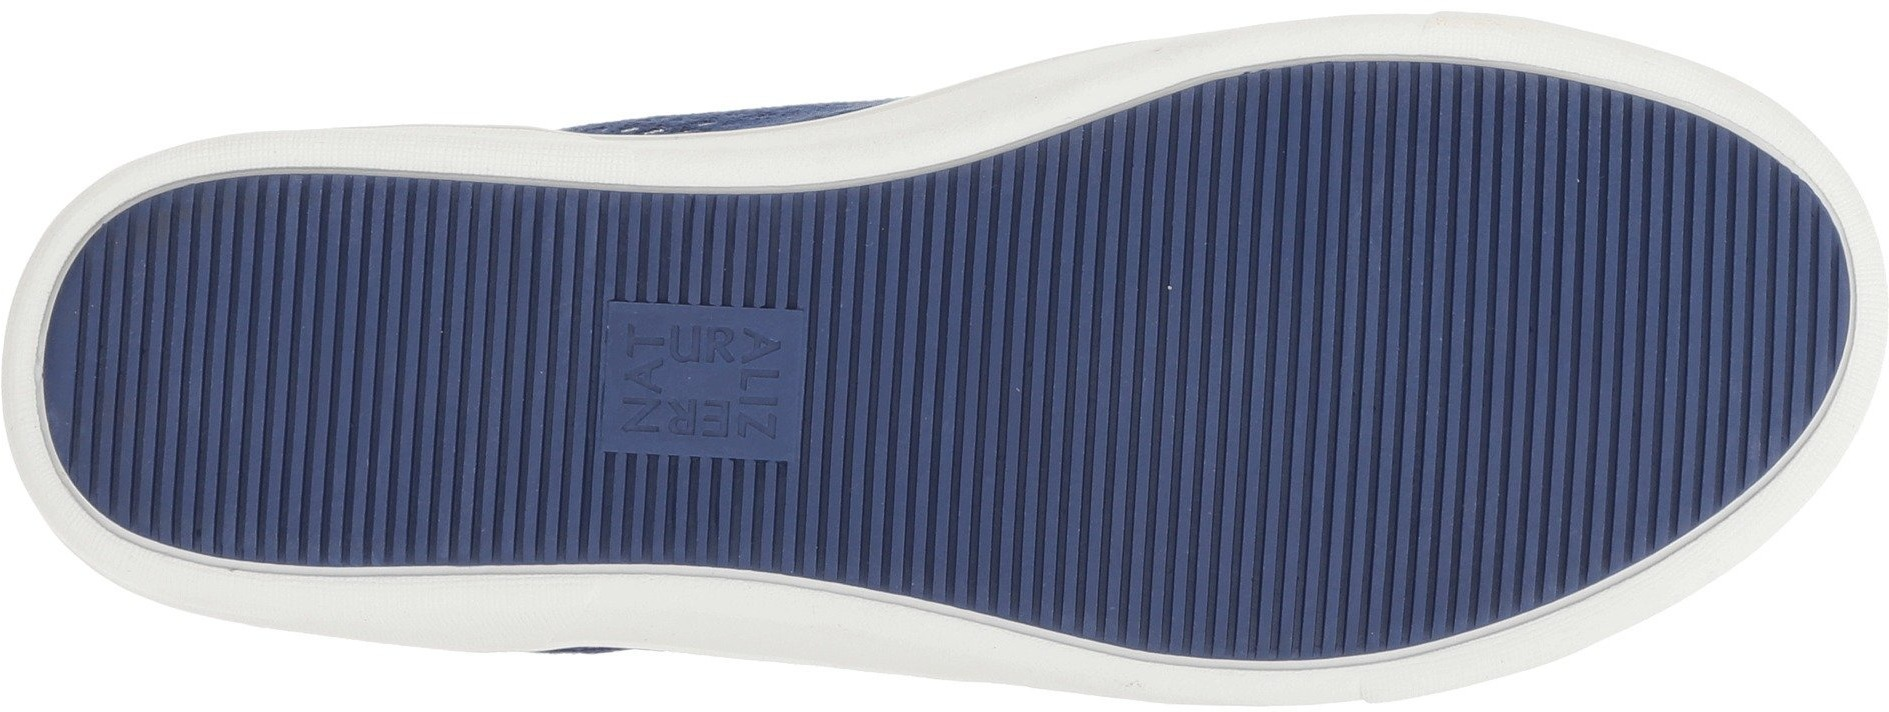line: (1102, 130, 1518, 508), (820, 207, 1095, 528), (1525, 171, 1793, 443), (283, 224, 543, 473), (78, 275, 275, 477), (1177, 512, 1347, 658), (596, 202, 719, 307), (1529, 451, 1640, 564), (1357, 514, 1467, 625), (640, 467, 724, 557)
text: (616, 308, 785, 460)
